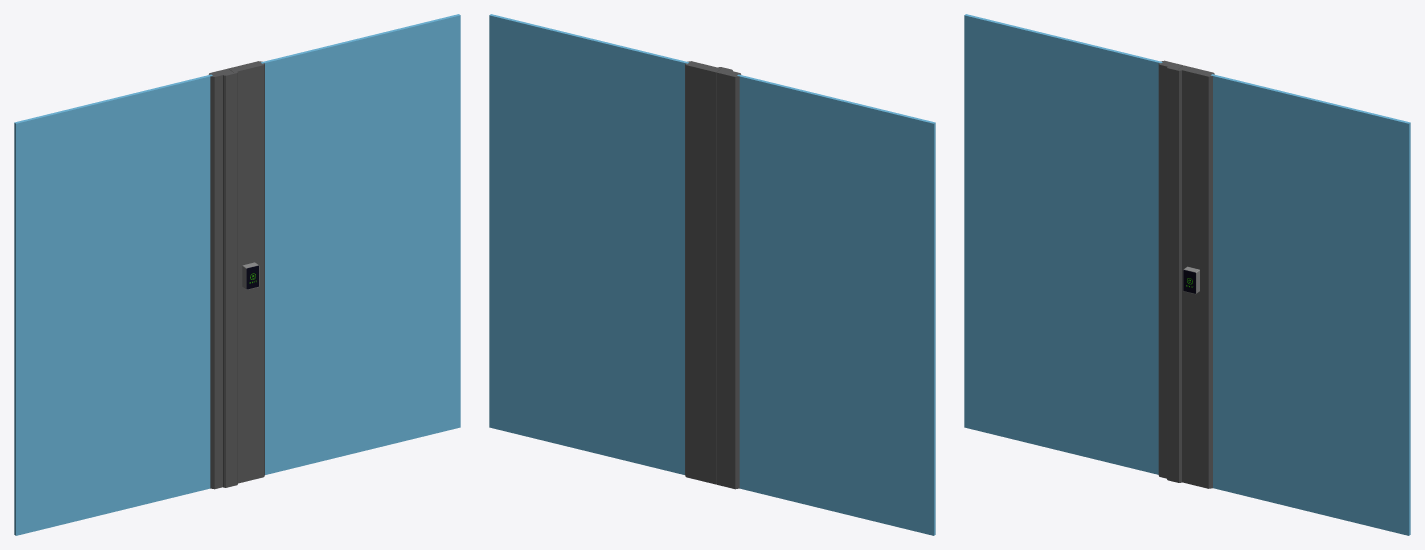
The model's file is exit_button_switch.glb.
3 views of the same model, side by side, from view 1: azimuth 30°, elevation 25°; view 2: azimuth 150°, elevation 25°; view 3: azimuth 330°, elevation 25° (orthographic).
Parts seen in each view (by area): view 1: Cube.002; view 2: Cube.002; view 3: Cube.002.
Part boxes in pixels (x1,y1,x2,y2): Cube.002: (14, 14, 460, 535); Cube.002: (489, 14, 935, 535); Cube.002: (964, 14, 1410, 535).
Size of what is drawn, in the model's own units: 1.69 by 1.5 by 0.0616.
